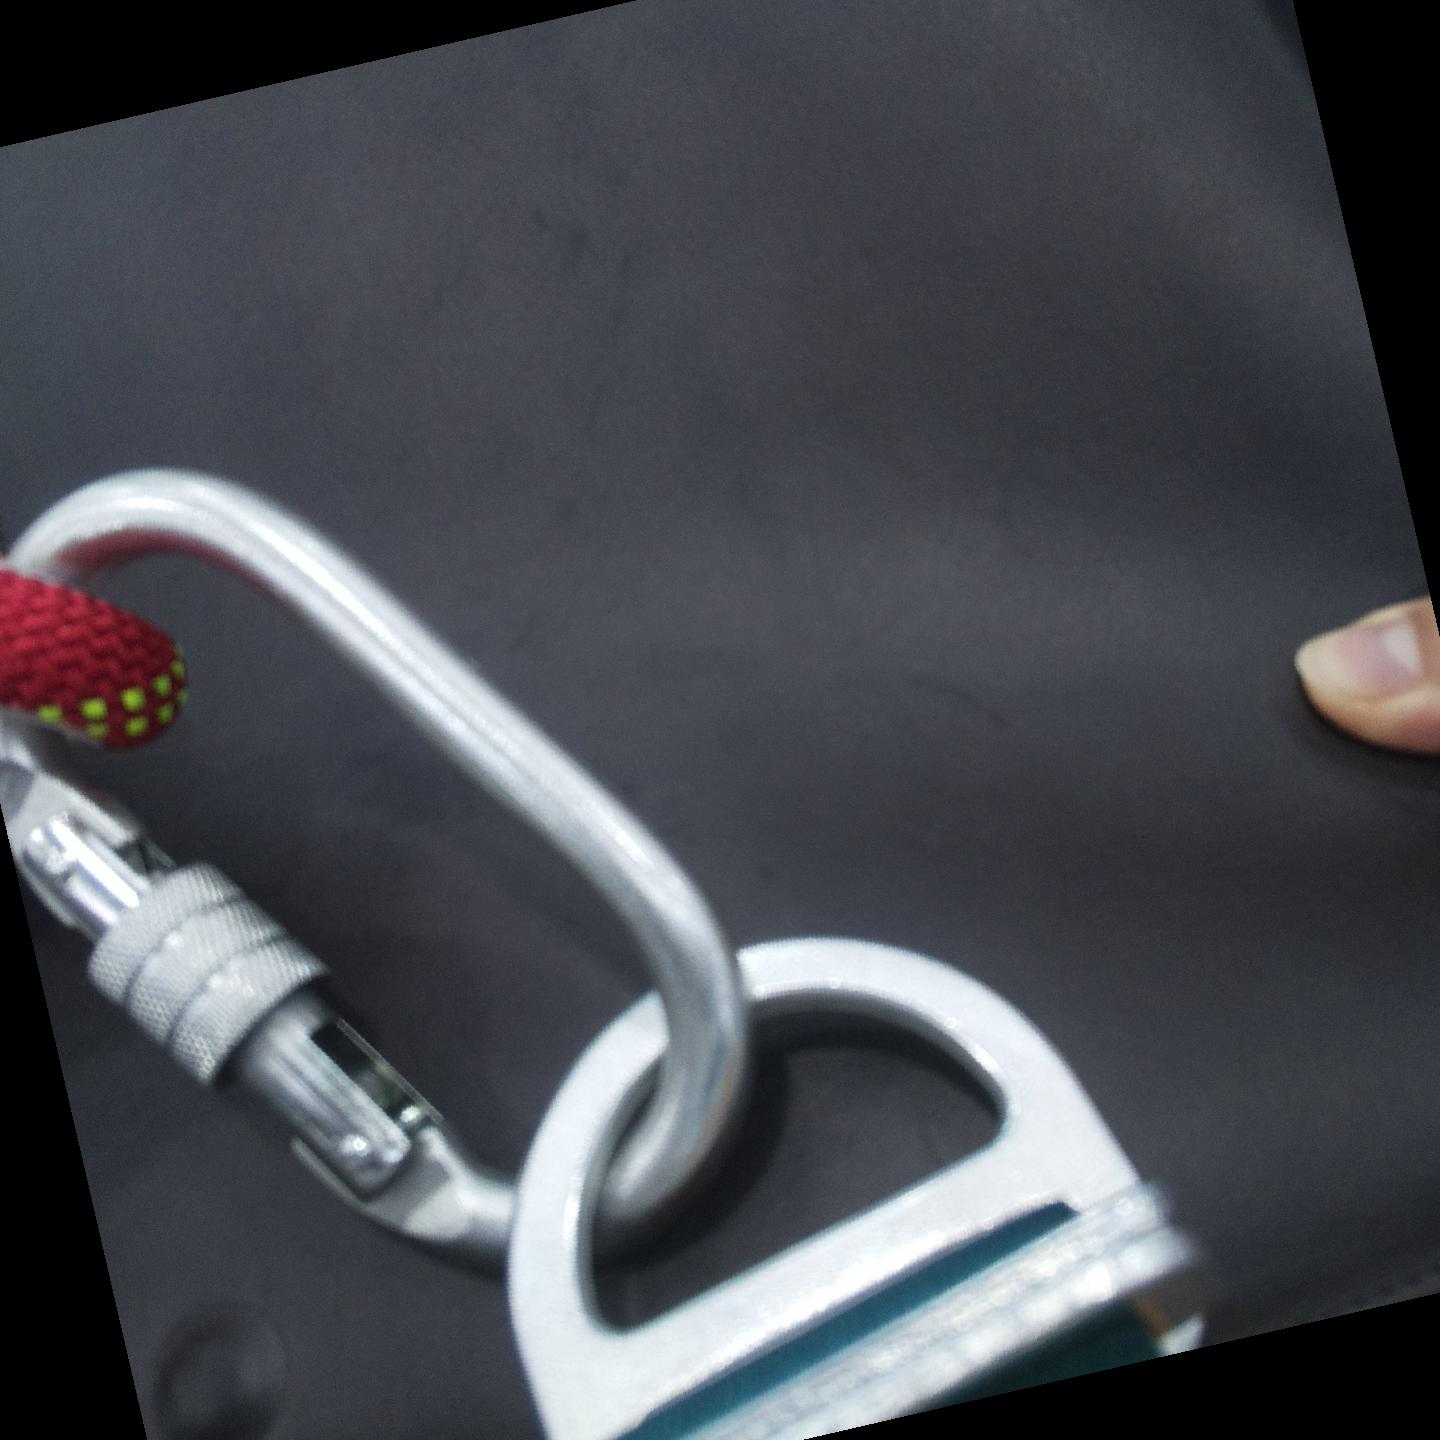SUCCESS: (189, 789, 1182, 1353)
